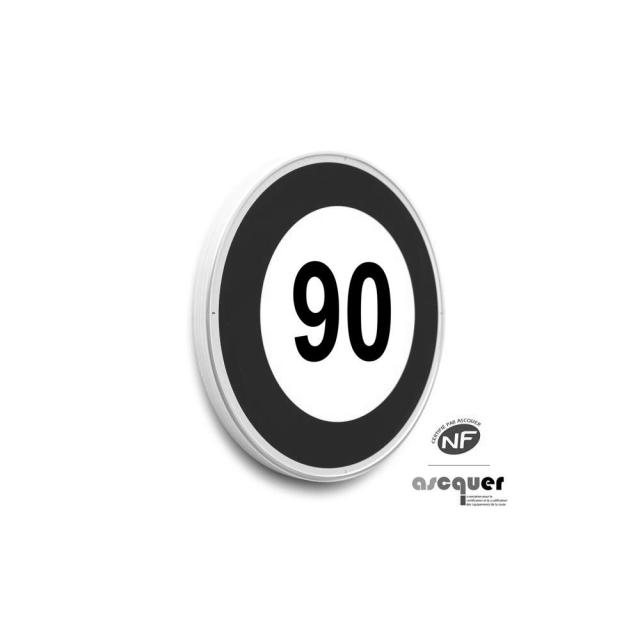speed_90: (194, 153, 439, 490)
